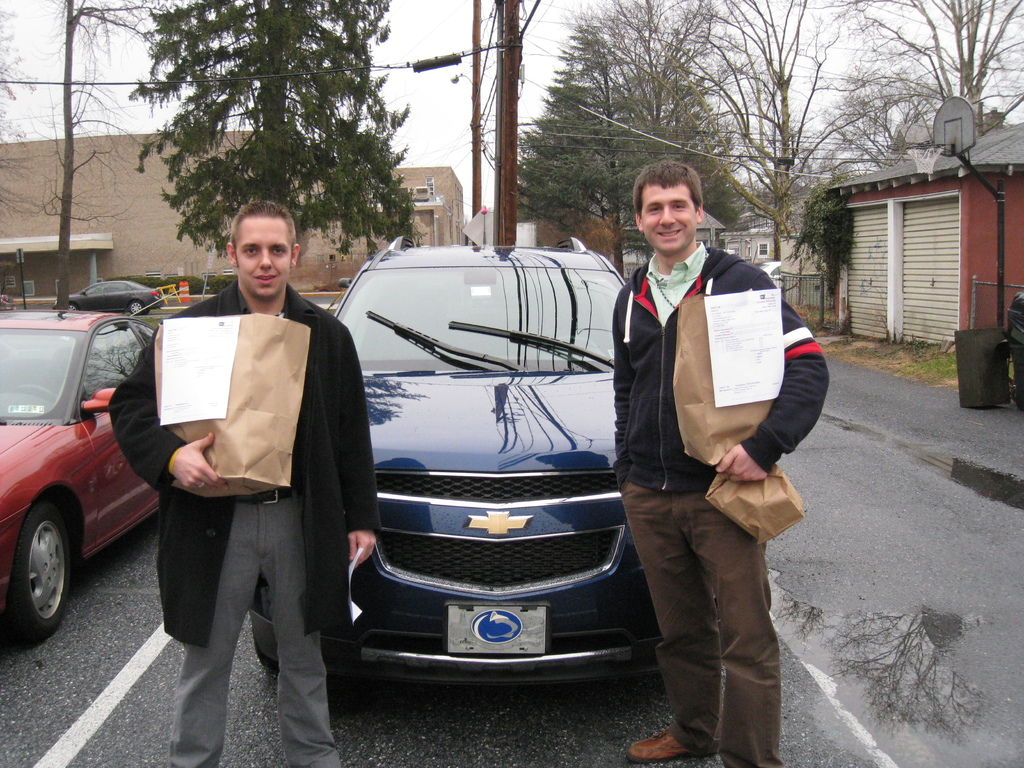Car: (332, 229, 632, 689), (0, 309, 162, 642), (76, 275, 170, 308)
